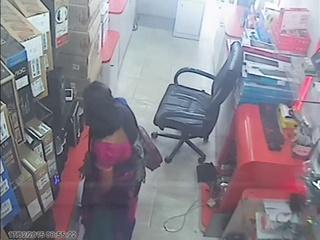Normal: (80, 80, 146, 239)
